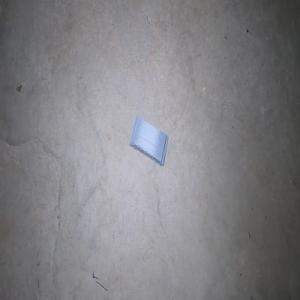PlasticPart: (128, 115, 168, 167)
